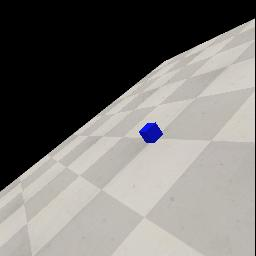box: (139, 122, 163, 143)
